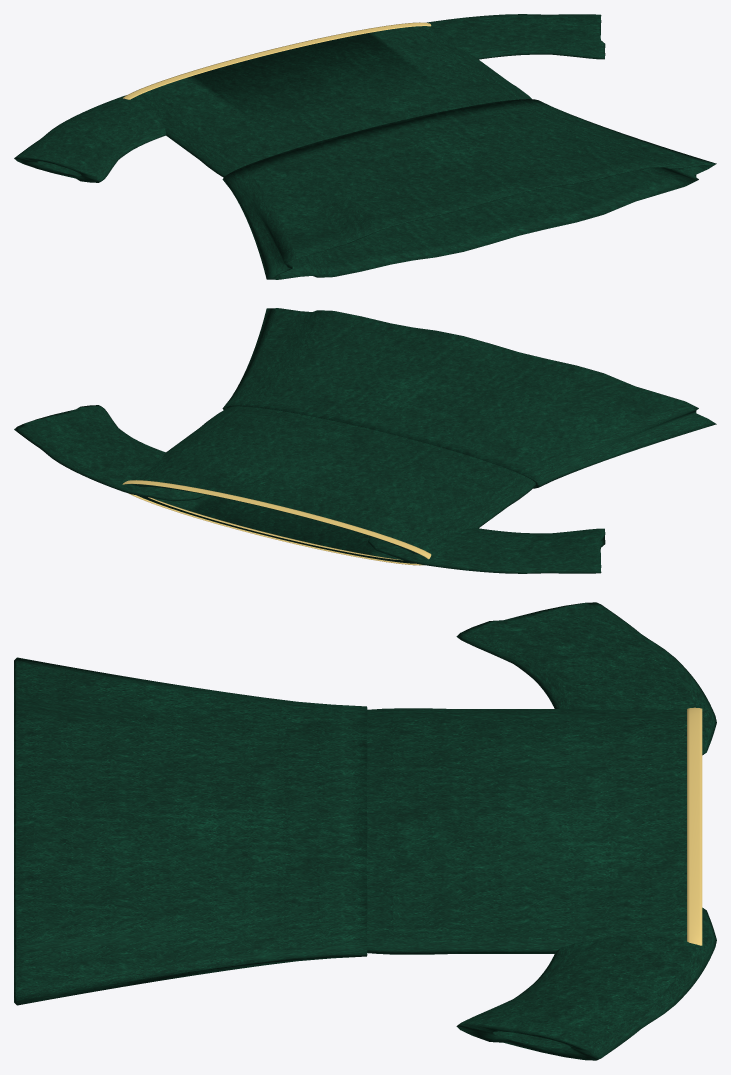
File: abaya1.fbx
3 views of the same model, one above another, from view 1: azimuth 30°, elevation 25°; view 2: azimuth 150°, elevation 25°; view 3: azimuth 270°, elevation 25° (orthographic). The views are drawn at different scales.
Visible parts, largest first — view 1: abaya1; view 2: abaya1; view 3: abaya1.
Part boxes in pixels (<box>): abaya1: <box>14,14,716,279</box>; abaya1: <box>14,308,716,573</box>; abaya1: <box>14,602,716,1060</box>.
Bounding box in the file's own units: 1.62 × 0.1207 × 1.06.
Materials: 2 (1 with a texture image).
